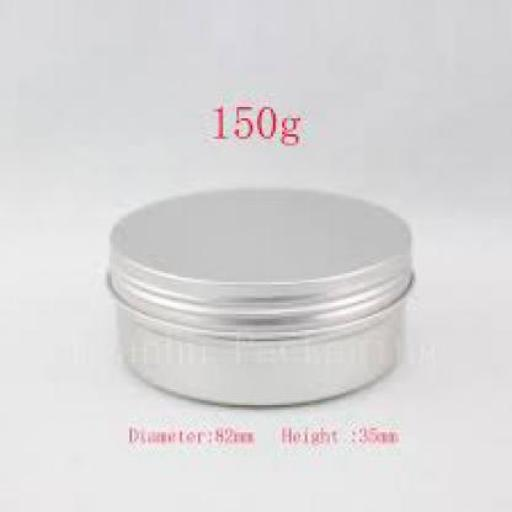metal: (102, 184, 415, 410)
